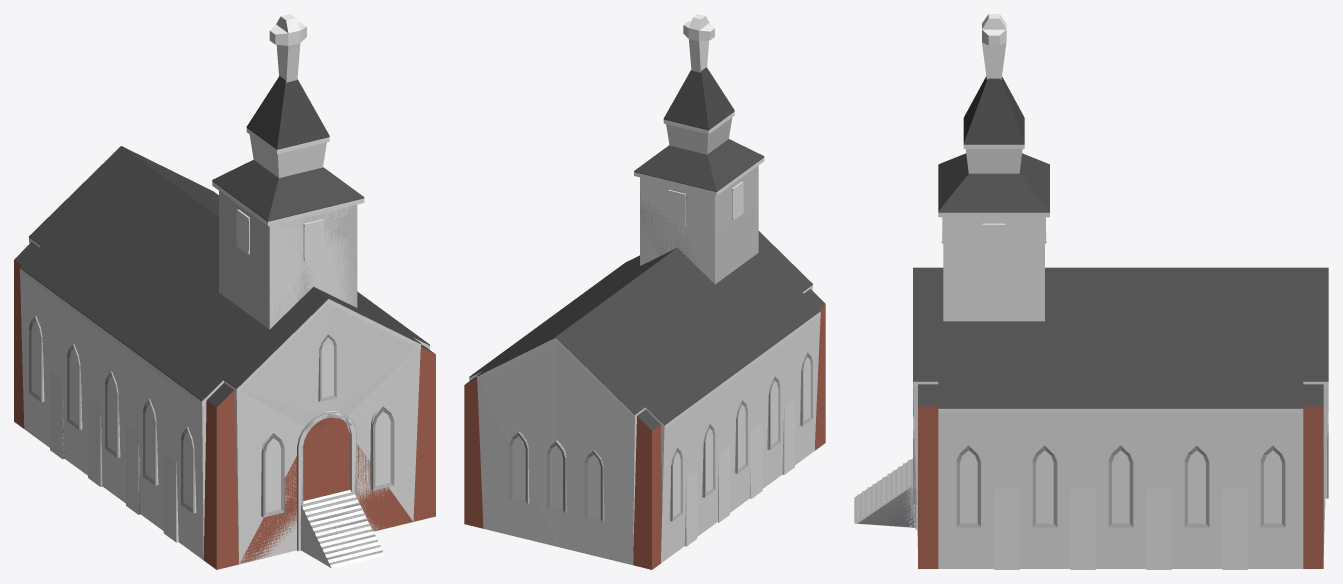
The model's file is eca_bld_church_a.dae.
3 renders of one model, left to right at view 1: azimuth 30°, elevation 25°; view 2: azimuth 150°, elevation 25°; view 3: azimuth 270°, elevation 25°, orthographic. The views are drawn at different scales.
Visible parts, largest first — view 1: eca_bld_church_a_a1000, Colmesh-1, eca_bld_church_a_a250, eca_bld_church_a_a20; view 2: eca_bld_church_a_a1000, Colmesh-1, eca_bld_church_a_a250, eca_bld_church_a_a20; view 3: eca_bld_church_a_a1000, Colmesh-1, eca_bld_church_a_a250, eca_bld_church_a_a20.
Part boxes in pixels (x1,y1,x2,y2): eca_bld_church_a_a1000: [20, 76, 429, 565]; Colmesh-1: [20, 14, 420, 568]; eca_bld_church_a_a250: [29, 191, 394, 566]; eca_bld_church_a_a20: [14, 134, 435, 569]; eca_bld_church_a_a1000: [469, 67, 820, 544]; Colmesh-1: [477, 14, 820, 565]; eca_bld_church_a_a250: [509, 165, 814, 564]; eca_bld_church_a_a20: [464, 117, 825, 569]; eca_bld_church_a_a1000: [857, 76, 1328, 529]; Colmesh-1: [854, 14, 1328, 569]; eca_bld_church_a_a250: [857, 225, 1328, 529]; eca_bld_church_a_a20: [858, 384, 1323, 568].
Size of the model in its own units: 10.4 by 18.72 by 21.72.
